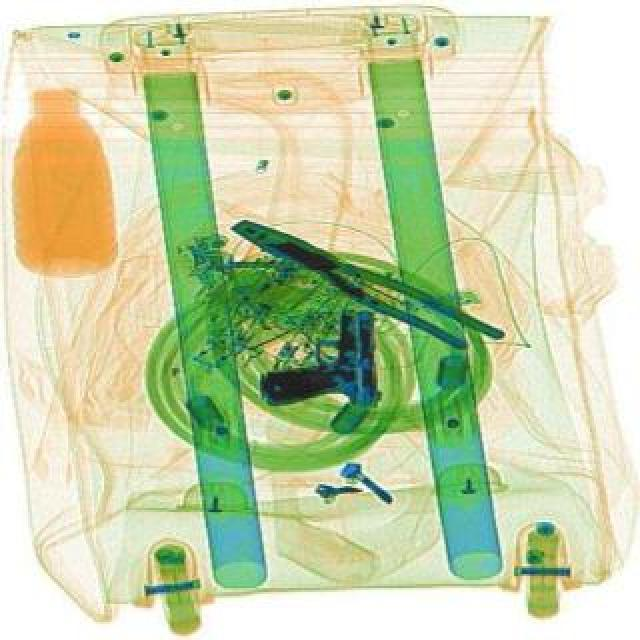gun: (256, 310, 376, 410)
wrench: (222, 208, 504, 364)
